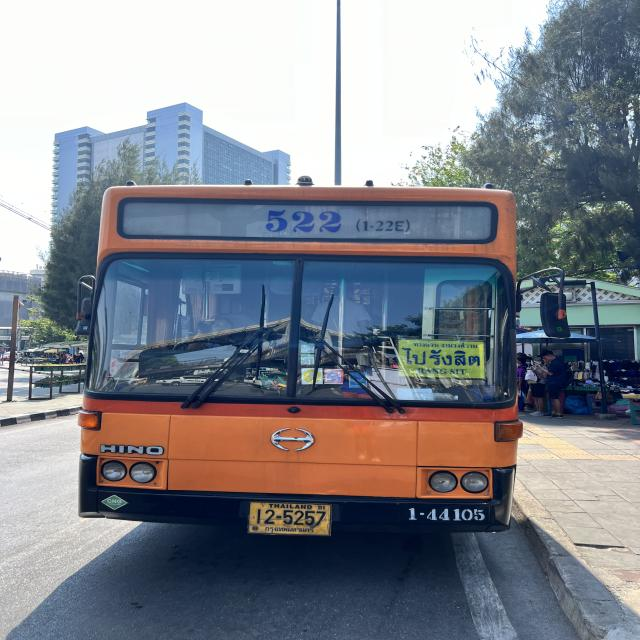BMTA-bus: (77, 183, 523, 540)
Bus-Line-Number: (260, 204, 420, 236)
Destination-Sign-Normal-Expressway: (396, 338, 489, 379)
